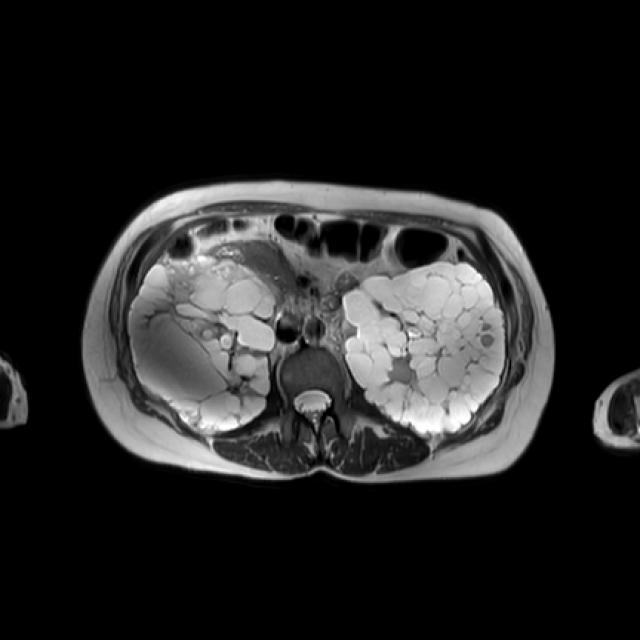sag: (129, 257, 274, 435)
sol: (343, 259, 507, 434)
